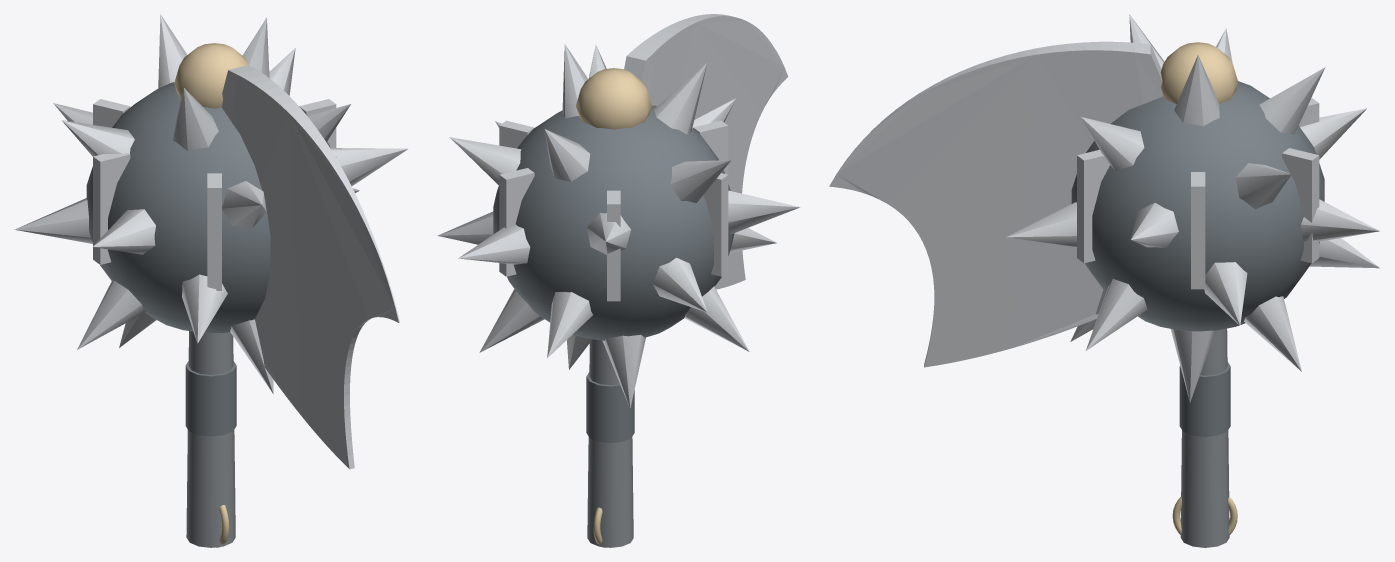
Rendered from raigo_right.glb.
3 renders of one model, left to right at view 1: azimuth 30°, elevation 25°; view 2: azimuth 150°, elevation 25°; view 3: azimuth 270°, elevation 25°, orthographic. The views are drawn at different scales.
Parts seen in each view (by area): view 1: raigo_right; view 2: raigo_right; view 3: raigo_right.
Boxes of the visible parts, bbox=[...] form: raigo_right: bbox=[14, 14, 407, 547]; raigo_right: bbox=[437, 14, 800, 547]; raigo_right: bbox=[829, 14, 1379, 547].
Size of the model in its own units: 0.5974 by 0.9047 by 0.8746.
